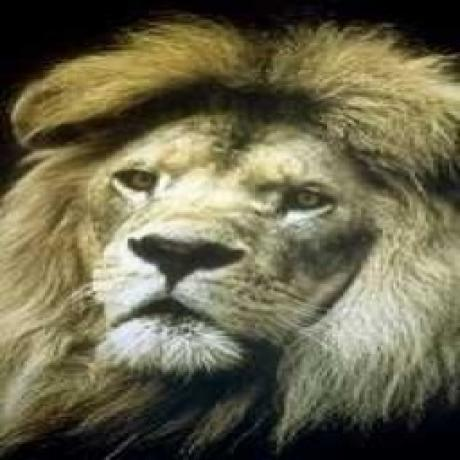Lion: (0, 18, 460, 458)
